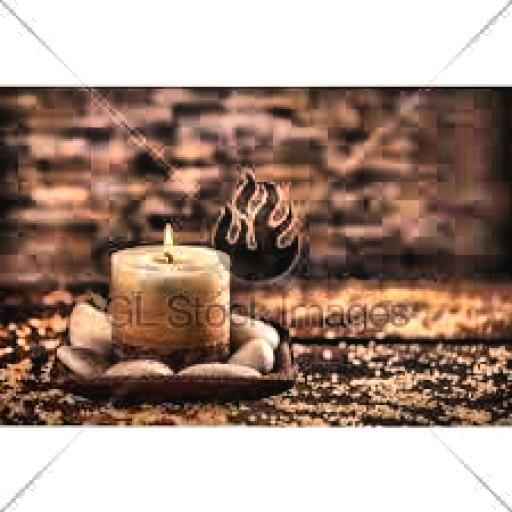fire: (155, 216, 175, 260)
